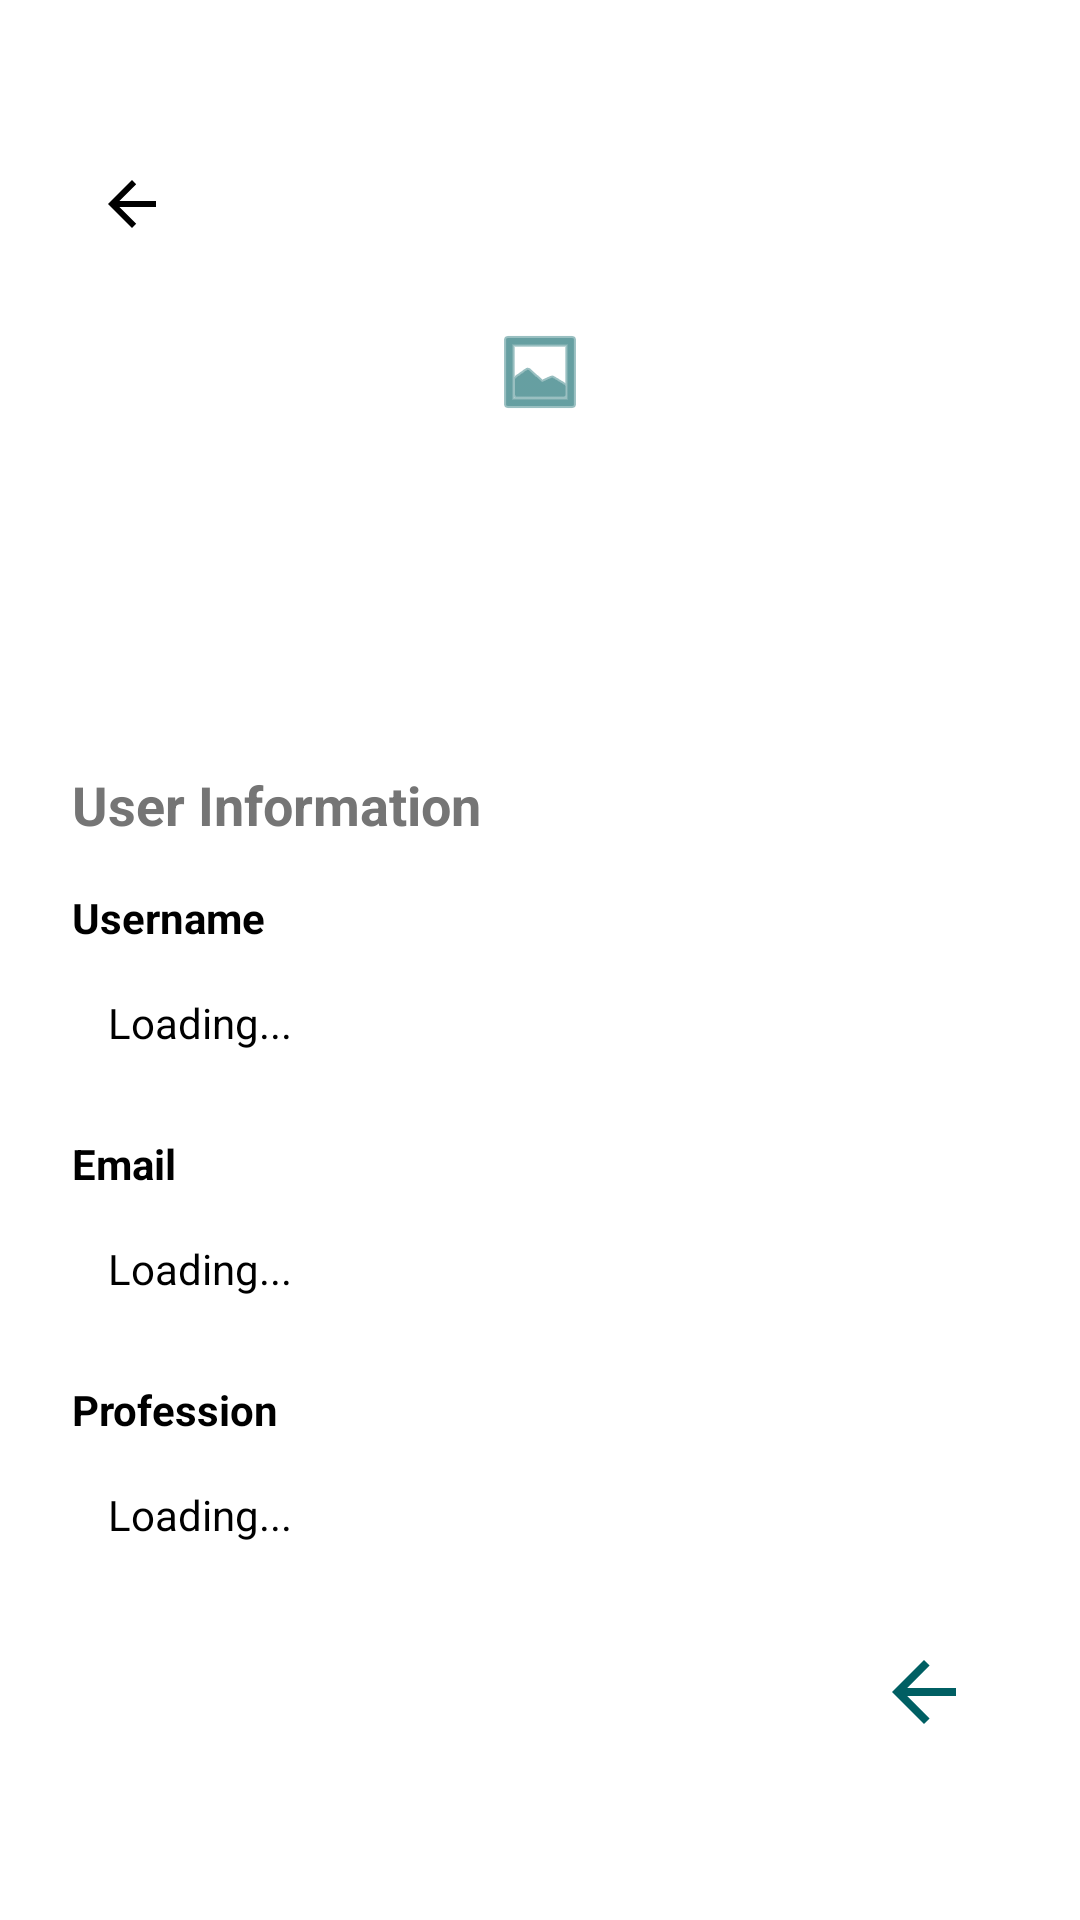

Where icons sit on this 1080 × 1920 app screen, as [x1, y1, x2, y2]:
ab back: [108, 180, 156, 228], [892, 1660, 956, 1724]
gallery: [504, 336, 576, 408]
